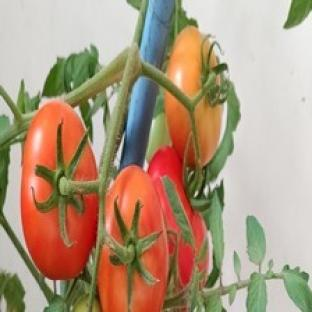Tomato: (21, 101, 97, 279), (98, 165, 168, 311), (148, 147, 208, 286), (165, 91, 222, 167), (147, 112, 169, 161), (73, 294, 89, 311)
